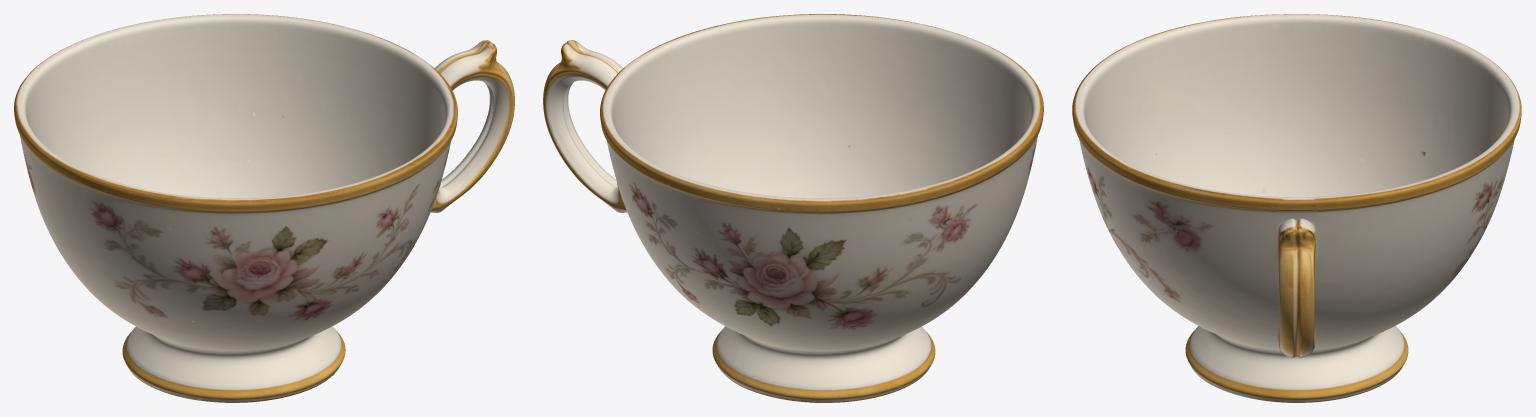
Rendered from teacup.glb.
3 views of the same model, side by side, from view 1: azimuth 30°, elevation 25°; view 2: azimuth 150°, elevation 25°; view 3: azimuth 270°, elevation 25° (orthographic).
Parts seen in each view (by area): view 1: Mesh_0; view 2: Mesh_0; view 3: Mesh_0.
Part boxes in pixels (left/top/right/bottom): Mesh_0: left=14, top=14, right=514, bottom=402; Mesh_0: left=543, top=14, right=1043, bottom=402; Mesh_0: left=1072, top=14, right=1521, bottom=402.
Bounding box in the file's own units: 1.08 × 0.5608 × 0.8945.
Materials: 1 (1 with a texture image).
